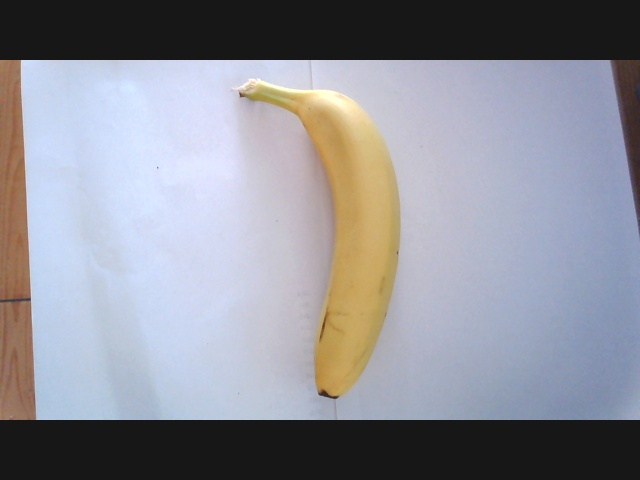banana: (257, 74, 416, 399)
